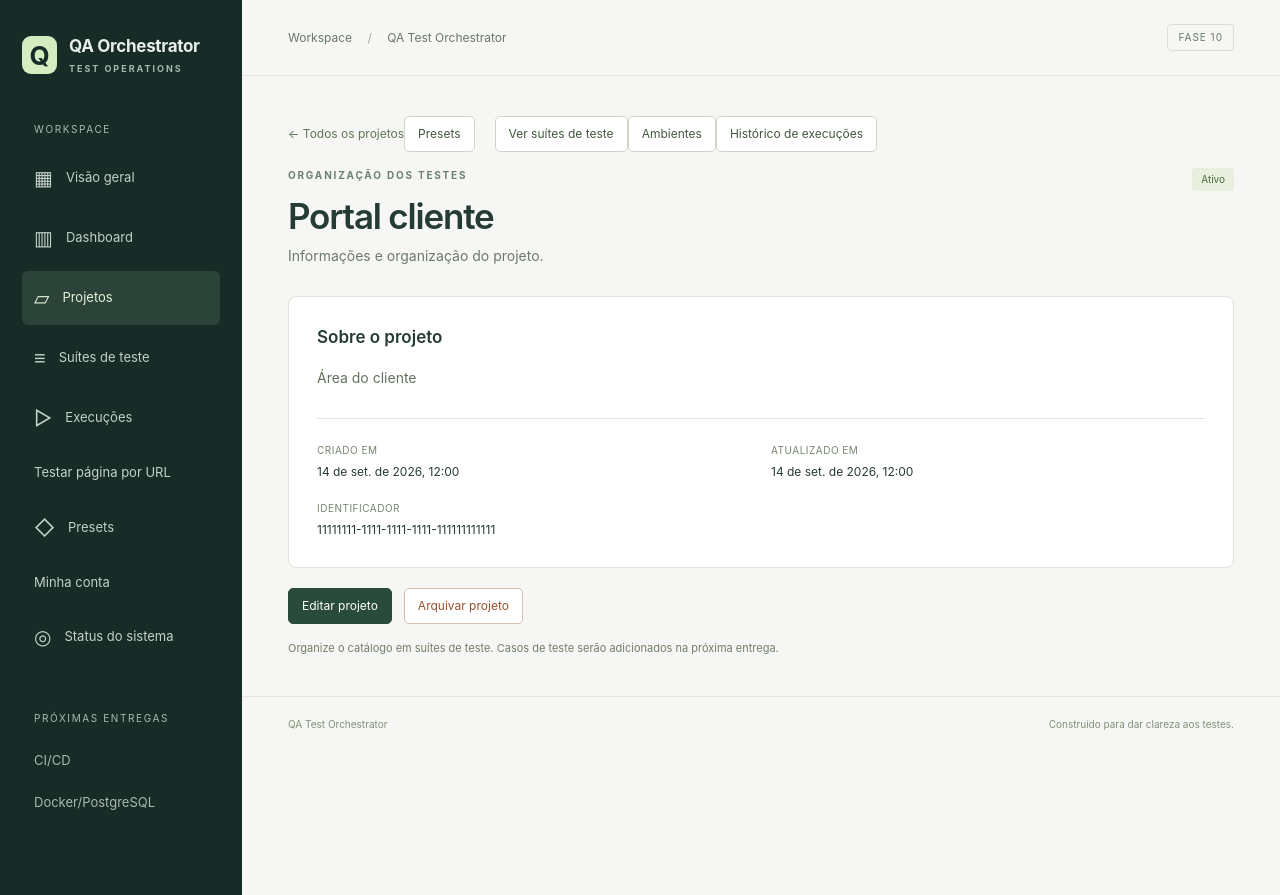
Test: Projetos › só arquiva após confirmar e mantém o detalhe consultável
Click the button "Arquivar projeto" at (463, 606), box [404,588,523,624]
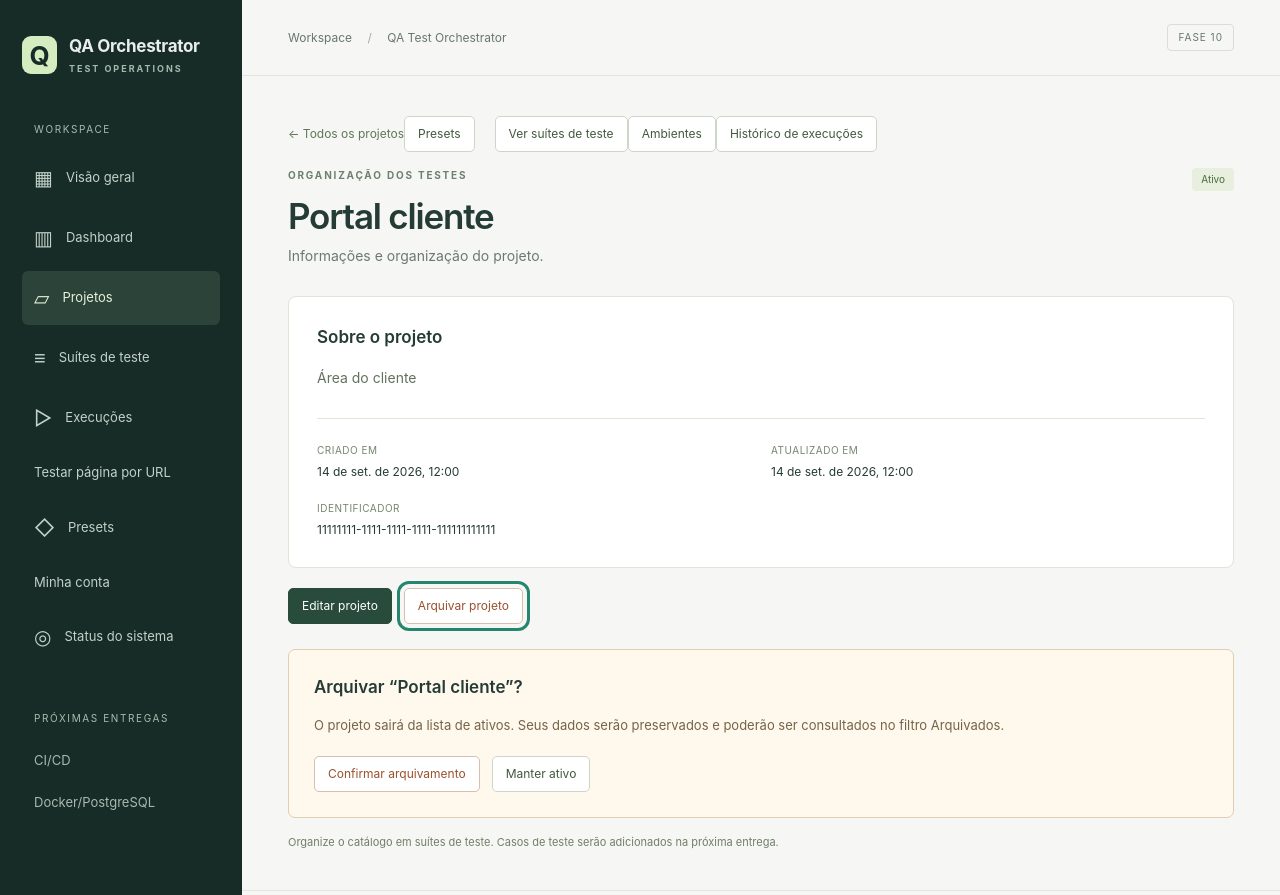
Click the button "Confirmar arquivamento" at (397, 774), box [314,756,480,792]
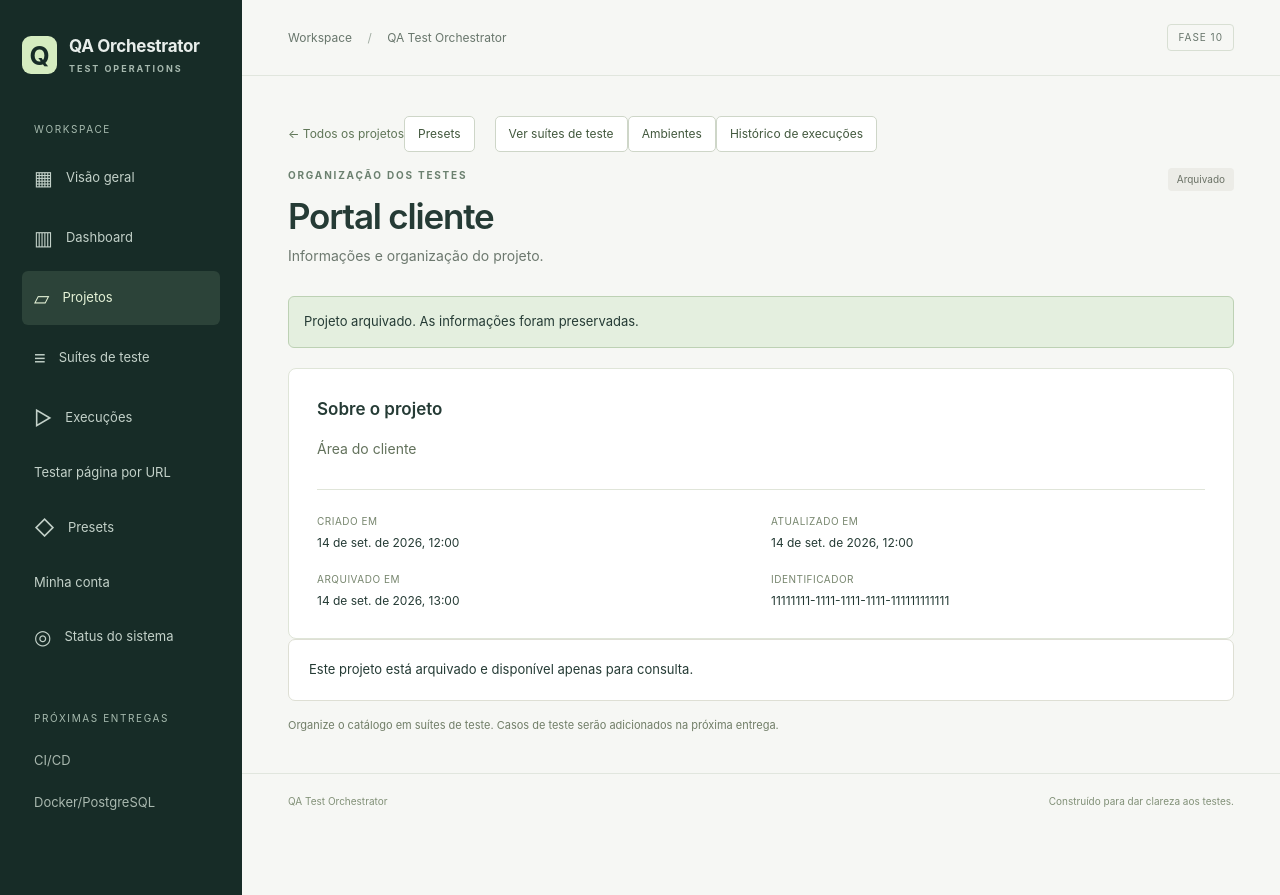
expect the text "Projeto arquivado. As informações foram preservadas." is shown: met, box [288,296,1234,348]
expect the link "Editar projeto" is gone: met
